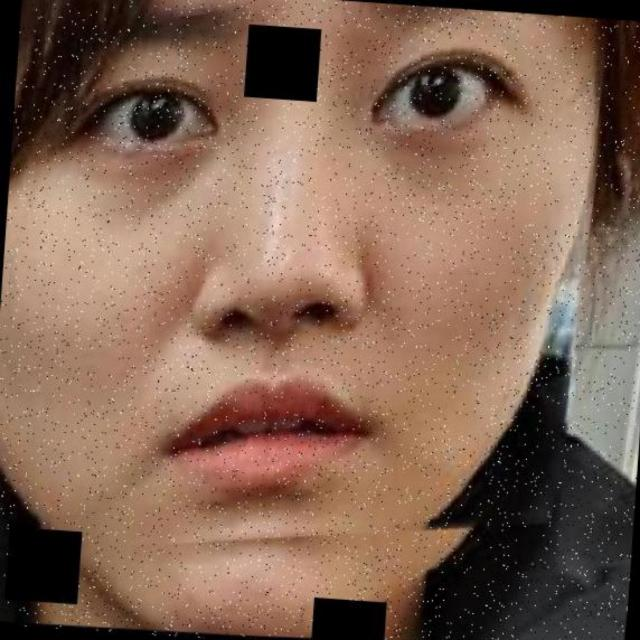Surprised: (36, 0, 552, 602)
